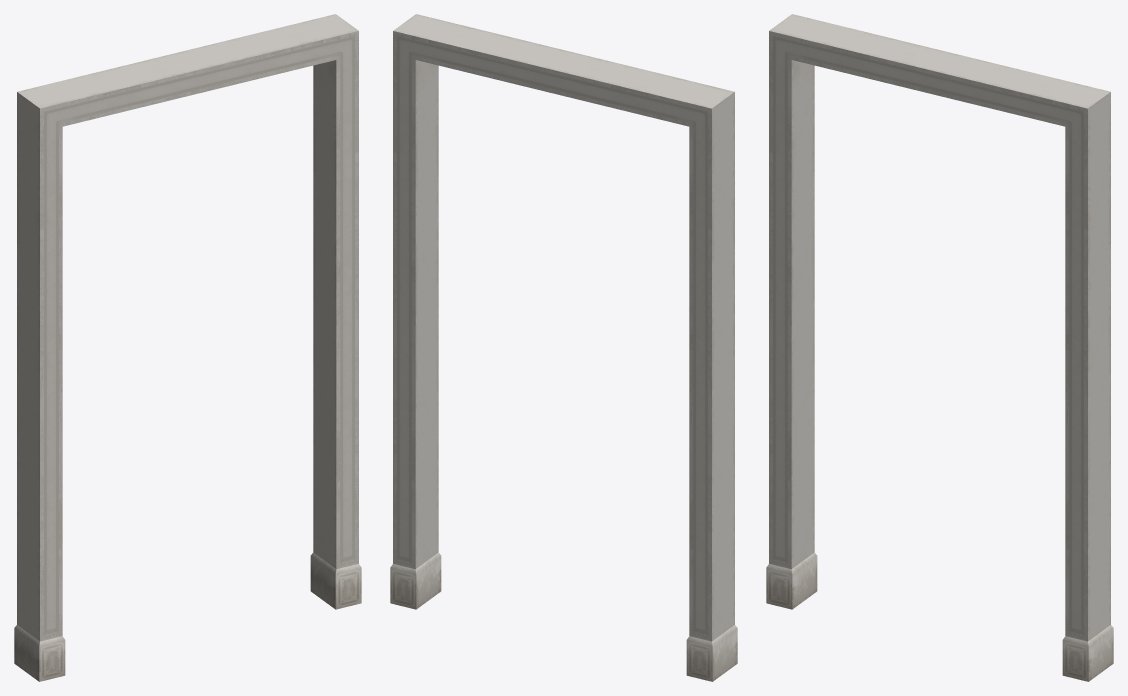
File: DoorFrameB.FBX
The picture shows the model from 3 angles, left to right: view 1: azimuth 30°, elevation 25°; view 2: azimuth 150°, elevation 25°; view 3: azimuth 330°, elevation 25°; orthographic projection.
Visible parts, largest first — view 1: DoorFrameB; view 2: DoorFrameB; view 3: DoorFrameB.
Boxes of the visible parts, x1=… form: DoorFrameB: x1=14, y1=14, x2=361, y2=681; DoorFrameB: x1=390, y1=14, x2=737, y2=681; DoorFrameB: x1=766, y1=14, x2=1113, y2=681.
Size of the model in its own units: 129 by 219 by 17.41.
